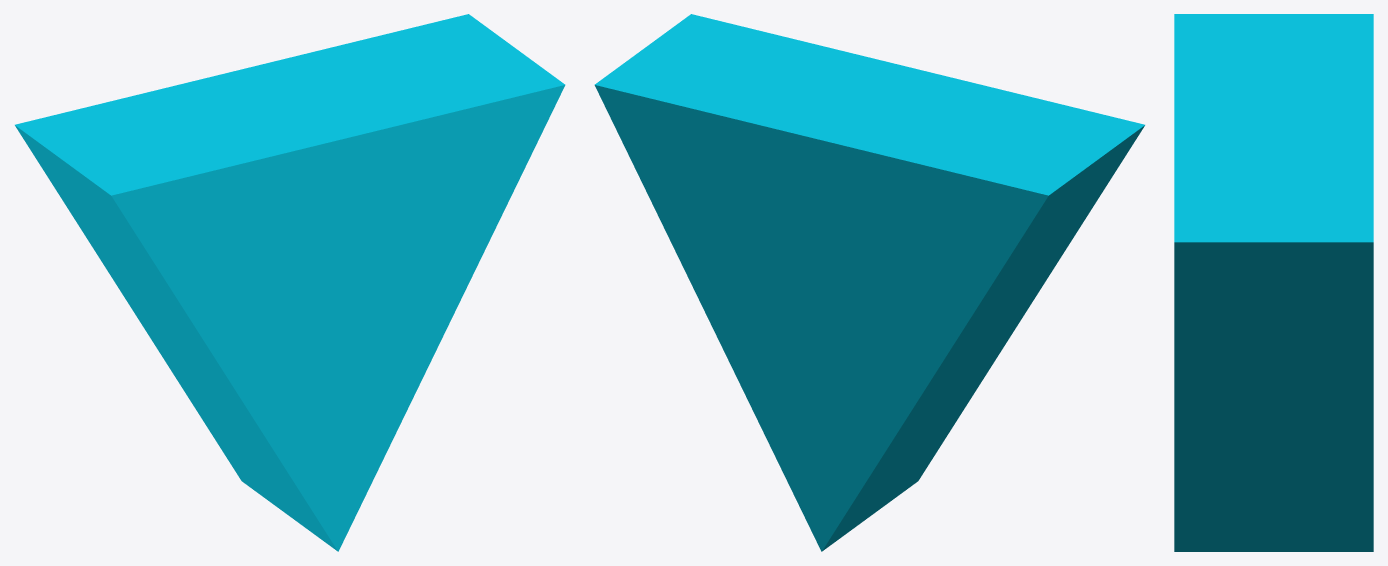
Rendered from SM_ArrowSmall.FBX.
The picture shows the model from 3 angles, left to right: view 1: azimuth 30°, elevation 25°; view 2: azimuth 150°, elevation 25°; view 3: azimuth 270°, elevation 25°; orthographic projection. The views are drawn at different scales.
Visible parts, largest first — view 1: Arrow_Small; view 2: Arrow_Small; view 3: Arrow_Small.
Boxes of the visible parts, x1=… form: Arrow_Small: x1=15, y1=14, x2=565, y2=551; Arrow_Small: x1=594, y1=14, x2=1144, y2=551; Arrow_Small: x1=1174, y1=14, x2=1373, y2=551.
Bounding box in the file's own units: 16.79 × 6.2 × 14.54.
